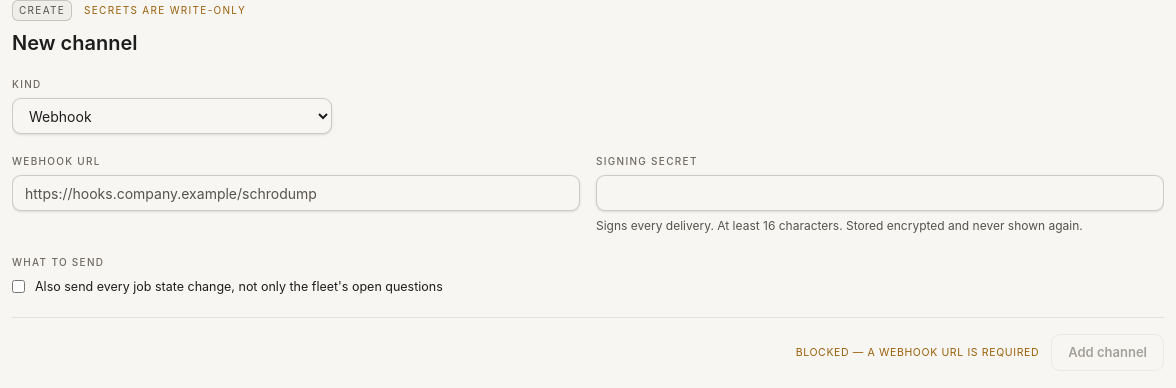
it: ChannelForm — the rules the server enforces are the rules the form states › blocks a signing secret below the length the server will accept
The image size is (1176, 388).
Type "https://hooks.example/y" into the field labelled "Webhook URL" at (296, 193), box [12,175,580,211]
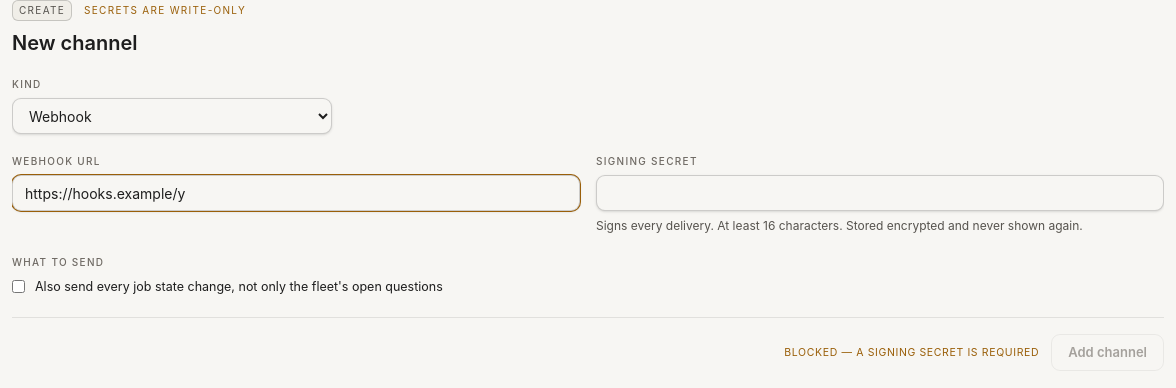
Type "short-secret" into the password field labelled "Signing secret" at (880, 193), box [596,175,1164,211]
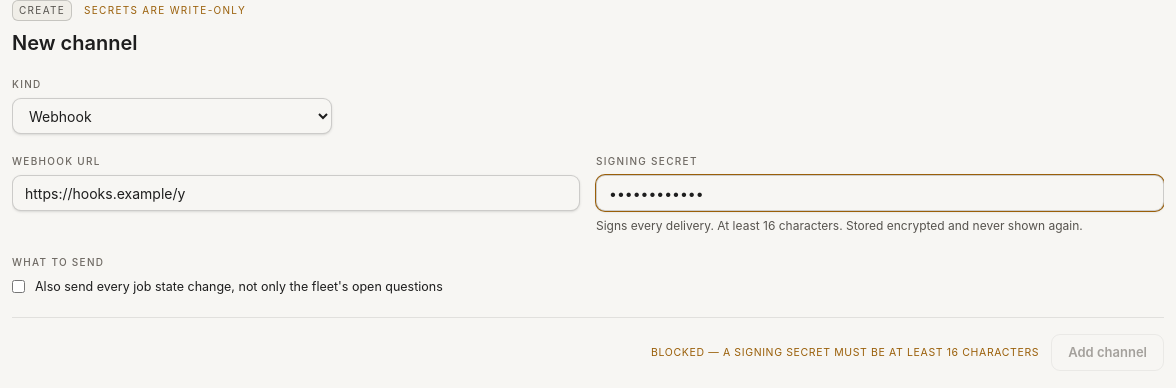
Check: the button "Add channel" is disabled, box [1051,334,1164,371]
Check: the text with test id "button-blocked-reason" shows "16 characters", box [723,346,1039,359]
